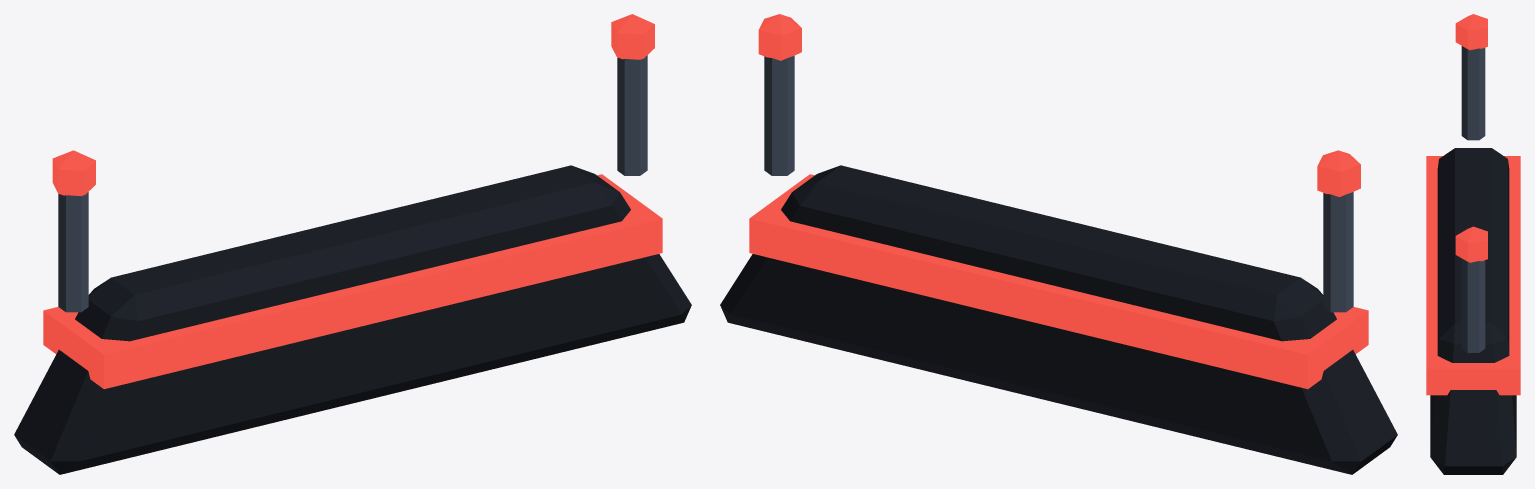
Rendered from Mono_Barrier.fbx.
3 views of the same model, side by side, from view 1: azimuth 30°, elevation 25°; view 2: azimuth 150°, elevation 25°; view 3: azimuth 270°, elevation 25° (orthographic). The views are drawn at different scales.
Parts seen in each view (by area): view 1: Mono_Barrier; view 2: Mono_Barrier; view 3: Mono_Barrier.
Boxes of the visible parts, box(x1,y1,x2,y2) form: Mono_Barrier: box(14, 14, 691, 474); Mono_Barrier: box(720, 14, 1397, 474); Mono_Barrier: box(1426, 14, 1520, 474).
Bounding box in the file's own units: 3.9 × 0.64 × 1.76.
